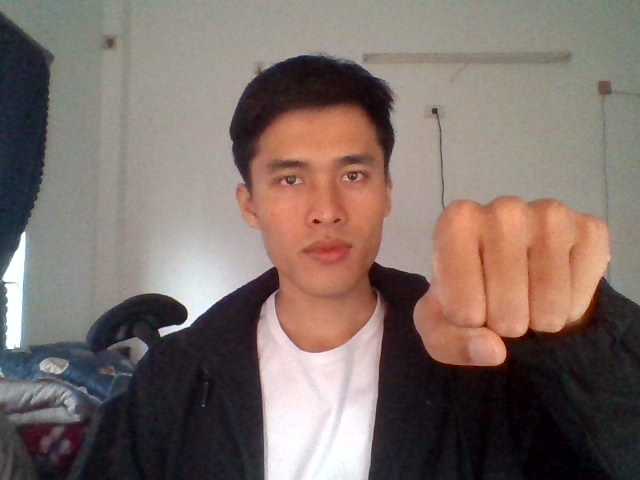Yes: (408, 193, 611, 372)
